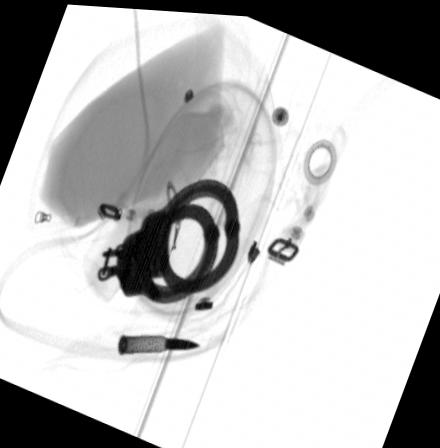Bullet: (118, 332, 199, 353)
HandCuffs: (97, 174, 240, 301)
